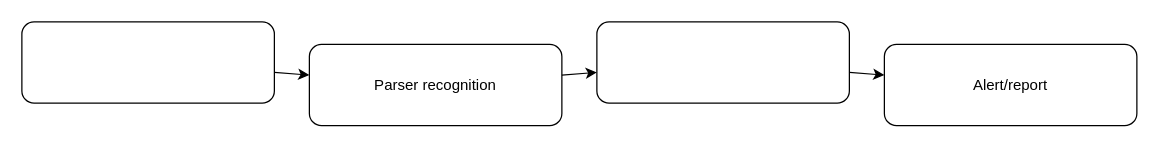
Image size: 1159x148. Some labels were removed from this diagram. The box of each missing label's shape, as (x1, y1, x2, y2) in pixels:
Raw syslog: (21, 21, 274, 103)
SIEM database: (596, 21, 849, 103)
